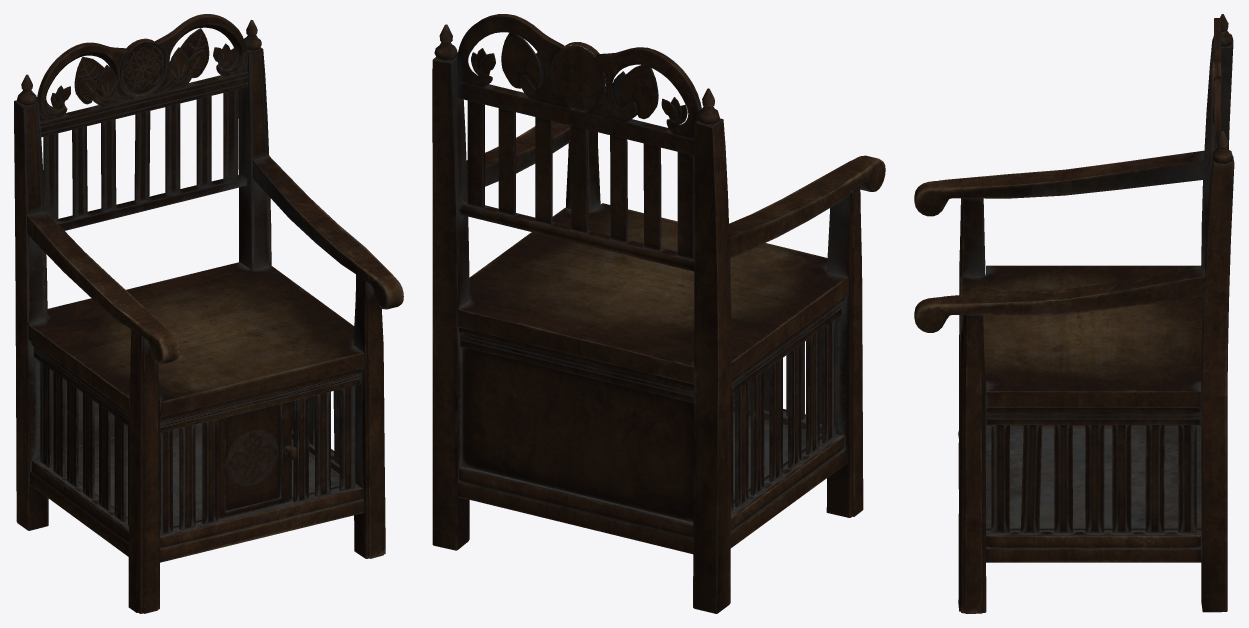
Rendered from gallinera_chair.glb.
3 renders of one model, left to right at view 1: azimuth 30°, elevation 25°; view 2: azimuth 150°, elevation 25°; view 3: azimuth 270°, elevation 25°, orthographic. The views are drawn at different scales.
Visible parts, largest first — view 1: gallinera_chair; view 2: gallinera_chair; view 3: gallinera_chair.
Part boxes in pixels (left/top/right/bottom): gallinera_chair: left=14, top=14, right=403, bottom=613; gallinera_chair: left=432, top=14, right=885, bottom=613; gallinera_chair: left=914, top=14, right=1234, bottom=613.
Size of the model in its own units: 0.5806 by 1.03 by 0.604.
Materials: 1 (1 with a texture image).
